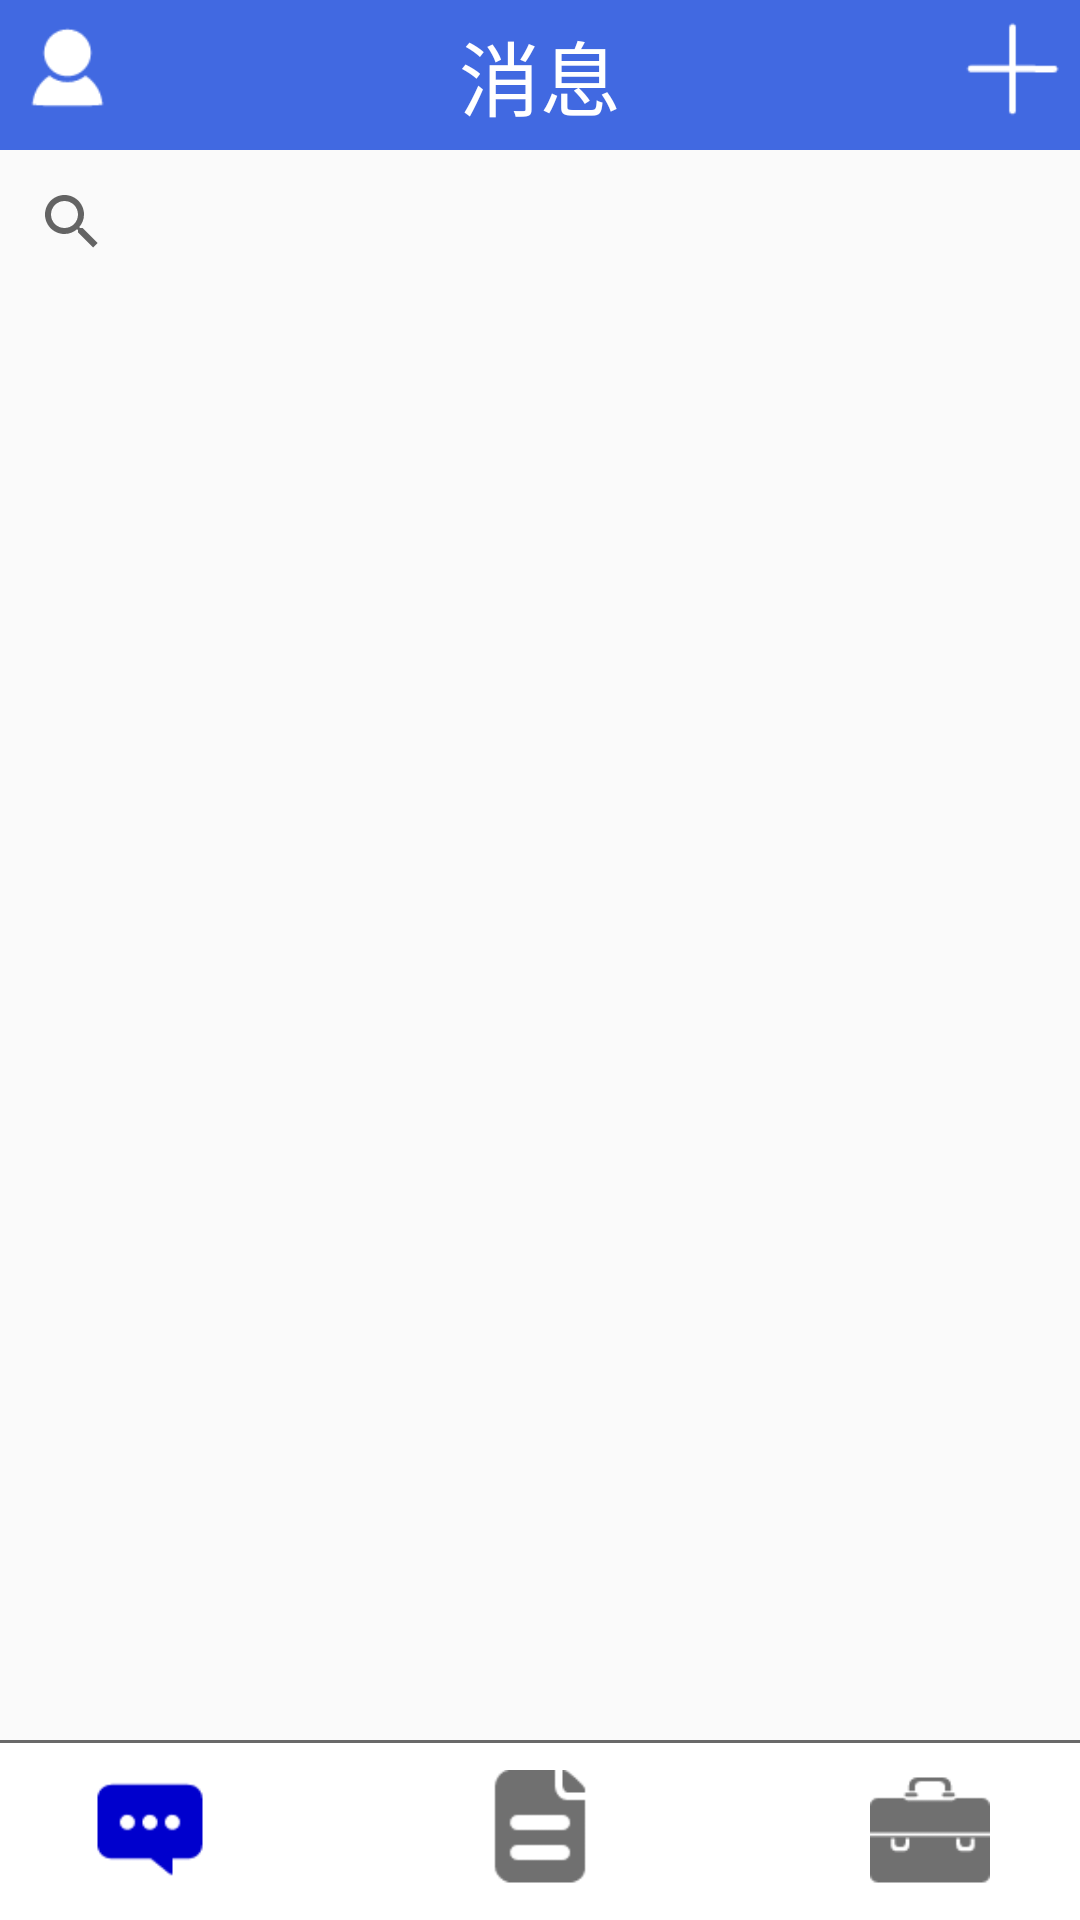

Screen size 1080px×1920px. Icon name, then its box in pixels as (x1, y1, x2, y2):
add: (967, 23, 1059, 115)
contacts: (32, 28, 103, 107)
file: (494, 1770, 586, 1883)
message: (97, 1783, 203, 1876)
work: (870, 1777, 990, 1883)
